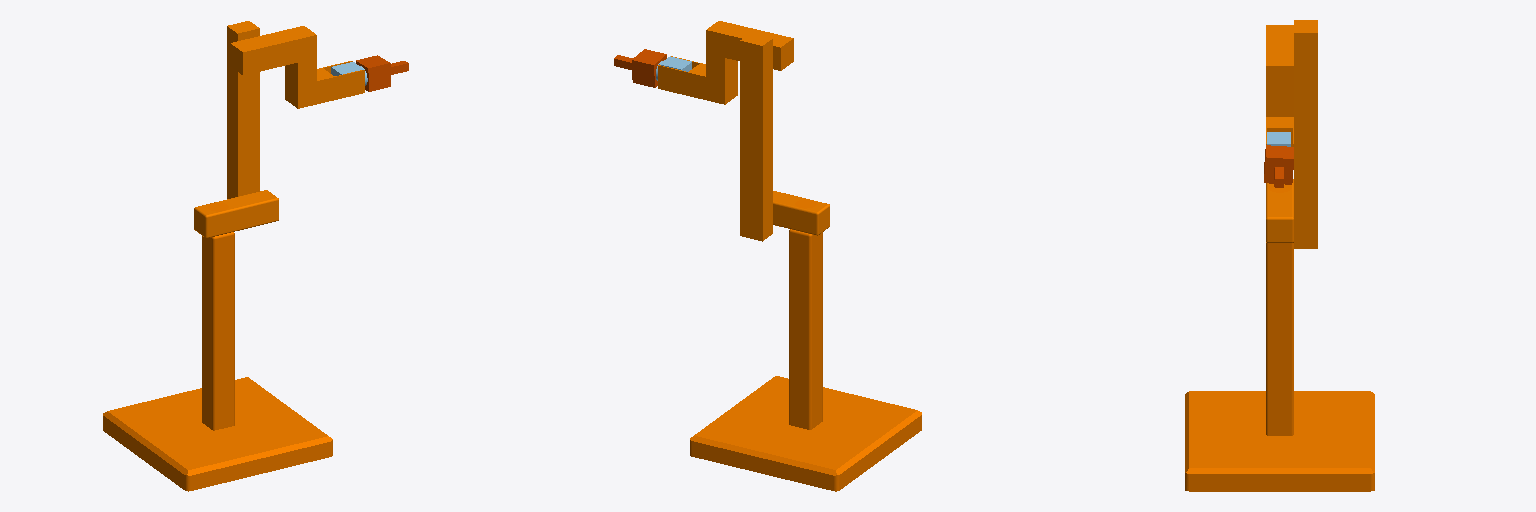
The robot description file, URDF, robot "chitlits_trial":
<robot name="chitlits_trial">

<link name="dummy_link">
 <pose>0 0 0 0 0 0</pose>
</link>

<joint name="dummy_joint" type="fixed">
    <parent link="dummy_link"/>
    <child link="base"/>
</joint>

<link name="base">
<visual>
<origin xyz="0 0 0" rpy="0 -0 0" />
<geometry>
<mesh filename="package://chitlits_trial/meshes/base.stl"/>
</geometry>
<material name="base_material">
<color rgba="0.97254901960784312376 0.51372549019607838261 0 1.0"/>
</material>
</visual>
<collision>
<origin xyz="0 0 0" rpy="0 -0 0" />
<geometry>
<mesh filename="package://chitlits_trial/meshes/base.stl"/>
</geometry>
</collision>
<inertial>
<origin xyz="-3.4721103636388965972e-16 2.480225546764055279e-16 0.40689387077424016281" rpy="0 0 0"/>
<mass value="10063.934292082562024" />
<inertia ixx="7263.5294097008236349" ixy="-0.00032522257515168307264"  ixz="-4.8678224004370786453e-13" iyy="7263.5294167700885737" iyz="6.21650784784151612e-13" izz="5383.5461450290385983" />
</inertial>
</link>

<link name="link1">
<visual>
<origin xyz="0.24999999999999997224 -7.6540424946709590856e-18 -0.29999999999999982236" rpy="0 -0 -3.3857514945752394068e-35" />
<geometry>
<mesh filename="package://chitlits_trial/meshes/link1.stl"/>
</geometry>
<material name="link1_material">
<color rgba="0.97254901960784312376 0.52941176470588235947 0.0039215686274509803377 1.0"/>
</material>
</visual>
<collision>
<origin xyz="0.24999999999999997224 -7.6540424946709590856e-18 -0.29999999999999982236" rpy="0 -0 -3.3857514945752394068e-35" />
<geometry>
<mesh filename="package://chitlits_trial/meshes/link1.stl"/>
</geometry>
</collision>
<inertial>
<origin xyz="0.32784176631715378214 0.038920883158576814742 -0.14999999999999982792" rpy="0 0 0"/>
<mass value="108.38518616081056223" />
<inertia ixx="2.5749260237233126958" ixy="-0.72624041310098597091"  ixz="-1.5403842340630661285e-16" iyy="9.113147949667252945" iyz="-1.6211955312260878129e-16" izz="10.195161860873735549" />
</inertial>
</link>

<link name="link2">
<visual>
<origin xyz="0 -0.25 0.25" rpy="1.570796326794896558 -2.9399051064082344377e-33 -2.3111168697244180257e-33" />
<geometry>
<mesh filename="package://chitlits_trial/meshes/link2.stl"/>
</geometry>
<material name="link2_material">
<color rgba="0.97254901960784312376 0.52941176470588235947 0.0039215686274509803377 1.0"/>
</material>
</visual>
<collision>
<origin xyz="0 -0.25 0.25" rpy="1.570796326794896558 -2.9399051064082344377e-33 -2.3111168697244180257e-33" />
<geometry>
<mesh filename="package://chitlits_trial/meshes/link2.stl"/>
</geometry>
</collision>
<inertial>
<origin xyz="-9.2361034132500580372e-17 -1.1421291964584714407 0.10368062053122922839" rpy="0 0 0"/>
<mass value="237.44296157577127815" />
<inertia ixx="122.91677476896329324" ixy="-5.8788464249770894274e-15"  ixz="2.0387310133285850443e-16" iyy="4.3328292420202716428" iyz="-4.3426591926983819647" izz="122.1235389767537356" />
</inertial>
</link>

<link name="link3">
<visual>
<origin xyz="0.24999999999999994449 0 0.2999999999999999889" rpy="1.570796326794896558 -3.7366160927800095449e-34 1.867044587947701077e-19" />
<geometry>
<mesh filename="package://chitlits_trial/meshes/link3.stl"/>
</geometry>
<material name="link3_material">
<color rgba="0.97254901960784312376 0.52941176470588235947 0.0039215686274509803377 1.0"/>
</material>
</visual>
<collision>
<origin xyz="0.24999999999999994449 0 0.2999999999999999889" rpy="1.570796326794896558 -3.7366160927800095449e-34 1.867044587947701077e-19" />
<geometry>
<mesh filename="package://chitlits_trial/meshes/link3.stl"/>
</geometry>
</collision>
<inertial>
<origin xyz="0.46295653182151164096 0.20832906847110768678 0.14999999999999999445" rpy="0 0 0"/>
<mass value="165.68203842422872185" />
<inertia ixx="13.428943187868359388" ixy="-7.8941258720254028347"  ixz="-6.418900697331053997e-31" iyy="16.101468492203519389" iyz="3.6561363365381416552e-16" izz="27.1554359728377257" />
</inertial>
</link>

<link name="link4">
<visual>
<origin xyz="-7.8886090522101180541e-31 -8.8817841970012523234e-16 -0.25" rpy="-1.570796326794896558 -1.570796326794896558 0" />
<geometry>
<mesh filename="package://chitlits_trial/meshes/link4.stl"/>
</geometry>
<material name="link4_material">
<color rgba="0.97254901960784312376 0.52941176470588235947 0.0039215686274509803377 1.0"/>
</material>
</visual>
<collision>
<origin xyz="-7.8886090522101180541e-31 -8.8817841970012523234e-16 -0.25" rpy="-1.570796326794896558 -1.570796326794896558 0" />
<geometry>
<mesh filename="package://chitlits_trial/meshes/link4.stl"/>
</geometry>
</collision>
<inertial>
<origin xyz="-0.0047018568211054439718 -8.8384806358938191283e-16 0.096147216998349549488" rpy="0 0 0"/>
<mass value="32.624999999999978684" />
<inertia ixx="1.4681099117915823449" ixy="-1.5742865230588511764e-16"  ixz="0.02360072132872712003" iyy="1.546608844951965267" iyz="-2.6899127873507955895e-16" izz="0.56787393316038248248" />
</inertial>
</link>

<link name="link5">
<visual>
<origin xyz="0 0 -0.25000000000000005551" rpy="-1.570796326794896558 9.5609882993221505853e-33 -2.2083719037794914329e-19" />
<geometry>
<mesh filename="package://chitlits_trial/meshes/link5.stl"/>
</geometry>
<material name="link5_material">
<color rgba="0.61568627450980395466 0.81176470588235294379 0.92941176470588238168 1.0"/>
</material>
</visual>
<collision>
<origin xyz="0 0 -0.25000000000000005551" rpy="-1.570796326794896558 9.5609882993221505853e-33 -2.2083719037794914329e-19" />
<geometry>
<mesh filename="package://chitlits_trial/meshes/link5.stl"/>
</geometry>
</collision>
<inertial>
<origin xyz="0.17703772124919697761 5.595728153513087518e-17 -0.12500000000000002776" rpy="0 0 0"/>
<mass value="31.192961575771281701" />
<inertia ixx="0.36141661663511881475" ixy="-1.2831374211296090066e-18"  ixz="2.9832874238744311209e-31" iyy="1.1066079217708209015" iyz="3.9227349424050843949e-33" izz="1.1910347549464153083" />
</inertial>
</link>

<link name="link6">
<visual>
<origin xyz="0 0 0.25" rpy="1.570796326794896558 1.570796326794896558 0" />
<geometry>
<mesh filename="package://chitlits_trial/meshes/link6.stl"/>
</geometry>
<material name="link6_material">
<color rgba="0.84705882352941175295 0.35686274509803922461 0.019607843137254901689 1.0"/>
</material>
</visual>
<collision>
<origin xyz="0 0 0.25" rpy="1.570796326794896558 1.570796326794896558 0" />
<geometry>
<mesh filename="package://chitlits_trial/meshes/link6.stl"/>
</geometry>
</collision>
<inertial>
<origin xyz="-4.5593786108800530276e-17 -2.6074862316063836122e-17 0.031927702218243952936" rpy="0 0 0"/>
<mass value="22.160192121143595045" />
<inertia ixx="0.6229099285959684984" ixy="1.0843057170946698874e-17"  ixz="-1.5536722093186185276e-20" iyy="0.62290992859596827635" iyz="5.1309436269580543285e-19" izz="0.39265775094643440291" />
</inertial>
</link>

<joint name="joint6" type="revolute">
<origin xyz="0.45000000000000039968 0 -0.12500000000000002776" rpy="1.5707963267949085484 1.5031124846429122499 -1.5707963267949200947" />
<parent link="link5" />
<child link="link6" />
<axis xyz="0 0 1"/>
<limit effort="10" velocity="20" lower="0" upper="6.283185307179586232"/>
<joint_properties friction="0.0"/>
</joint>

<joint name="joint5" type="revolute">
<origin xyz="-0.13499999999999978684 -1.7763568394002504647e-15 0.24999999999999955591" rpy="-8.5815761399436059717e-17 -1.5707963267948934494 0" />
<parent link="link4" />
<child link="link5" />
<axis xyz="0 0 1"/>
<limit effort="10" velocity="20" lower="-1.570796326794896558" upper="1.570796326794896558"/>
<joint_properties friction="0.0"/>
</joint>

<joint name="joint4" type="revolute">
<origin xyz="1.000000000000000222 0.60000000000000053291 0.14999999999999985567" rpy="3.141592653589793116 -1.5707963267948956698 0" />
<parent link="link3" />
<child link="link4" />
<axis xyz="0 0 1"/>
<limit effort="100" velocity="20" lower="0" upper="6.283185307179586232"/>
<joint_properties friction="0.0"/>
</joint>

<joint name="joint3" type="revolute">
<origin xyz="0 -2.0000000000000008882 -0.30000000000000021094" rpy="-8.1152078391270283561e-16 6.7835652209614697612e-16 0.0059031883667002450072" />
<parent link="link2" />
<child link="link3" />
<axis xyz="0 0 1"/>
<limit effort="100000000" velocity="20" lower="0" upper="6.283185307179586232"/>
<joint_properties friction="0.0"/>
</joint>

<joint name="joint2" type="revolute">
<origin xyz="0.50000000000000843769 0.15000000000000518474 -0.14999999999999991118" rpy="-1.570796326794896558 -2.3887450761723675576e-17 1.0061015326711405034e-16" />
<parent link="link1" />
<child link="link2" />
<axis xyz="0 0 1"/>
<limit effort="1000000" velocity="20" lower="-1.570796326794896558" upper="3.141592653589793116"/>
<joint_properties friction="0.0"/>
</joint>

<joint name="joint1" type="revolute">
<origin xyz="8.6042284408449631883e-15 1.0699669637405741924e-17 3.0499999999999998224" rpy="-1.4752675056804208205e-18 -2.2950085198369954286e-17 -1.0412155812845410196e-17" />
<parent link="base" />
<child link="link1" />
<axis xyz="0 0 1"/>
<limit effort="10000" velocity="20" lower="0" upper="6.283185307179586232"/>
<joint_properties friction="100"/>
</joint>



<transmission name="joint1_trans">
    <type>transmission_interface/SimpleTransmission</type>
    
    <joint name="joint1">
        <hardwareInterface>hardware_interface/EffortJointInterface</hardwareInterface>
    </joint>
    
    <actuator name="joint1_motor">
        <hardwareInterface>hardware_interface/EffortJointInterface</hardwareInterface>
        <mechanicalReduction>1</mechanicalReduction>
    </actuator>
</transmission>

<transmission name="joint2_trans">
    <type>transmission_interface/SimpleTransmission</type>
    
    <joint name="joint2">
        <hardwareInterface>hardware_interface/EffortJointInterface</hardwareInterface>
    </joint>
    
    <actuator name="joint2_motor">
        <hardwareInterface>hardware_interface/EffortJointInterface</hardwareInterface>
        <mechanicalReduction>1</mechanicalReduction>
    </actuator>
</transmission>

<transmission name="joint3_trans">
    <type>transmission_interface/SimpleTransmission</type>
    
    <joint name="joint3">
        <hardwareInterface>hardware_interface/EffortJointInterface</hardwareInterface>
    </joint>
    
    <actuator name="joint3_motor">
        <hardwareInterface>hardware_interface/EffortJointInterface</hardwareInterface>
        <mechanicalReduction>1</mechanicalReduction>
    </actuator>
</transmission>

<transmission name="joint4_trans">
    <type>transmission_interface/SimpleTransmission</type>
    
    <joint name="joint4">
        <hardwareInterface>hardware_interface/EffortJointInterface</hardwareInterface>
    </joint>
    
    <actuator name="joint4_motor">
        <hardwareInterface>hardware_interface/EffortJointInterface</hardwareInterface>
        <mechanicalReduction>1</mechanicalReduction>
    </actuator>
</transmission>

<transmission name="joint5_trans">
    <type>transmission_interface/SimpleTransmission</type>
    
    <joint name="joint5">
        <hardwareInterface>hardware_interface/EffortJointInterface</hardwareInterface>
    </joint>
    
    <actuator name="joint5_motor">
        <hardwareInterface>hardware_interface/EffortJointInterface</hardwareInterface>
        <mechanicalReduction>1</mechanicalReduction>
    </actuator>
</transmission>

<transmission name="joint6_trans">
    <type>transmission_interface/SimpleTransmission</type>
    
    <joint name="joint6">
        <hardwareInterface>hardware_interface/EffortJointInterface</hardwareInterface>
    </joint>
    
    <actuator name="joint6_motor">
        <hardwareInterface>hardware_interface/EffortJointInterface</hardwareInterface>
        <mechanicalReduction>1</mechanicalReduction>
    </actuator>
</transmission>

<!-- GRAVITY -->

<gazebo reference="base">
    <mu1>5.0</mu1>
    <mu2>5.0</mu2>
    <!-- <turnGravityOff>true</turnGravityOff> -->
</gazebo>

<gazebo reference="link1">
    <mu1>0.2</mu1>
    <mu2>0.2</mu2>
    <!-- <turnGravityOff>true</turnGravityOff> -->
</gazebo>

<gazebo reference="link2">
    <mu1>0.2</mu1>
    <mu2>0.2</mu2>
    <!-- <turnGravityOff>true</turnGravityOff> -->
</gazebo>

<gazebo reference="link3">
    <mu1>0.2</mu1>
    <mu2>0.2</mu2>
    <!-- <turnGravityOff>true</turnGravityOff> -->
</gazebo>

<gazebo reference="link4">
    <mu1>0.2</mu1>
    <mu2>0.2</mu2>
    <!-- <turnGravityOff>true</turnGravityOff> -->
</gazebo>

<gazebo reference="link5">
    <mu1>0.2</mu1>
    <mu2>0.2</mu2>
    <!-- <turnGravityOff>true</turnGravityOff> -->
</gazebo>

<gazebo reference="link6">
    <mu1>0.2</mu1>
    <mu2>0.2</mu2>
    <!-- <turnGravityOff>true</turnGravityOff> -->
</gazebo>


</robot>

--- Render facts (derived) ---
The picture shows the robot from 3 angles, left to right: view 1: azimuth 30°, elevation 25°; view 2: azimuth 150°, elevation 25°; view 3: azimuth 270°, elevation 25°; orthographic projection.
Robot: chitlits_trial — 8 links, 7 joints (6 revolute, 1 fixed); root link dummy_link; default pose: all joints at 0.
Links seen in each view (by area): view 1: base, link2, link3, link1, link4, link6; view 2: base, link2, link3, link1, link4, link6; view 3: base, link2, link3, link1, link6.
Boxes of the visible links, left/top/right/bottom form: base: left=103, top=203, right=332, bottom=491; link2: left=227, top=21, right=270, bottom=198; link3: left=230, top=26, right=316, bottom=108; link1: left=194, top=190, right=278, bottom=237; link4: left=317, top=61, right=364, bottom=103; link6: left=356, top=55, right=408, bottom=91; base: left=690, top=199, right=921, bottom=491; link2: left=740, top=33, right=772, bottom=241; link3: left=706, top=21, right=793, bottom=104; link1: left=742, top=191, right=829, bottom=235; link4: left=658, top=56, right=705, bottom=99; link6: left=614, top=49, right=666, bottom=87; base: left=1185, top=184, right=1374, bottom=491; link2: left=1294, top=20, right=1317, bottom=248; link3: left=1266, top=25, right=1293, bottom=142; link1: left=1266, top=179, right=1293, bottom=242; link6: left=1264, top=145, right=1293, bottom=187.
Size in the robot's own frame: 3.55 by 2 by 5.15 metres.
Meshes: 7 distinct files referenced, 7 mesh visuals loaded (7 binary STL).